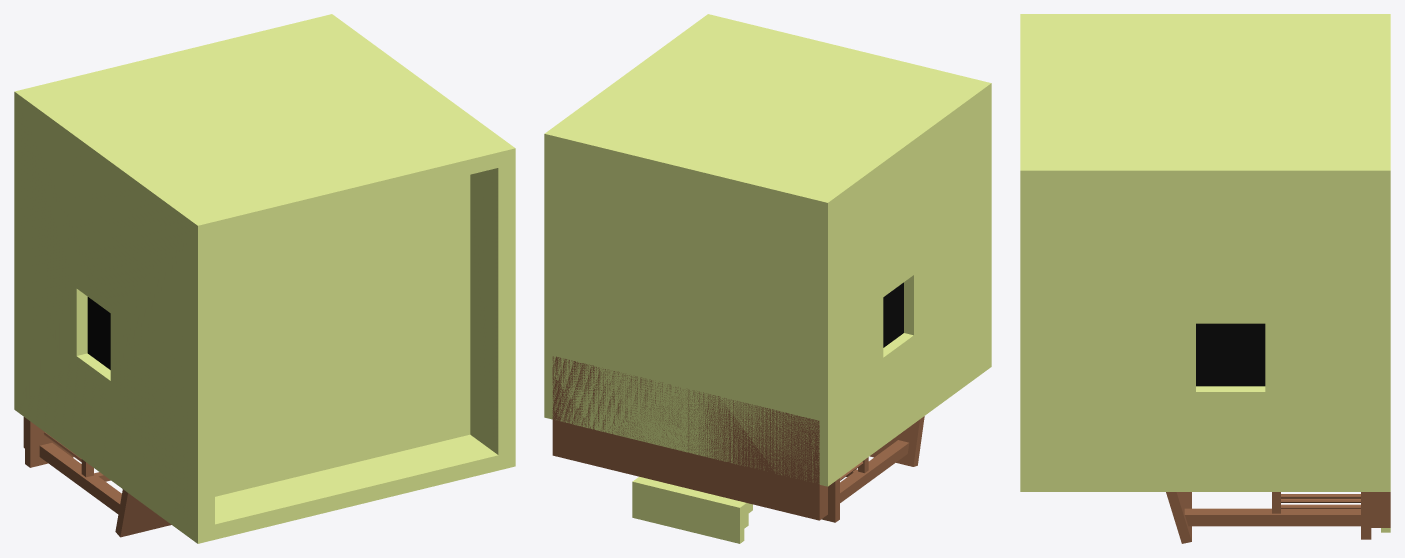
File: western_building_1.glb
3 renders of one model, left to right at view 1: azimuth 30°, elevation 25°; view 2: azimuth 150°, elevation 25°; view 3: azimuth 270°, elevation 25°, orthographic. The views are drawn at different scales.
Visible parts, largest first — view 1: western_building_1; view 2: western_building_1; view 3: western_building_1.
Boxes of the visible parts, x1=… form: western_building_1: x1=14, y1=14, x2=515, y2=543; western_building_1: x1=544, y1=14, x2=991, y2=543; western_building_1: x1=1020, y1=14, x2=1390, y2=543.
Size of the model in its own units: 18 by 22 by 18.
